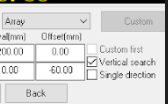timer: (35, 29, 86, 81)
